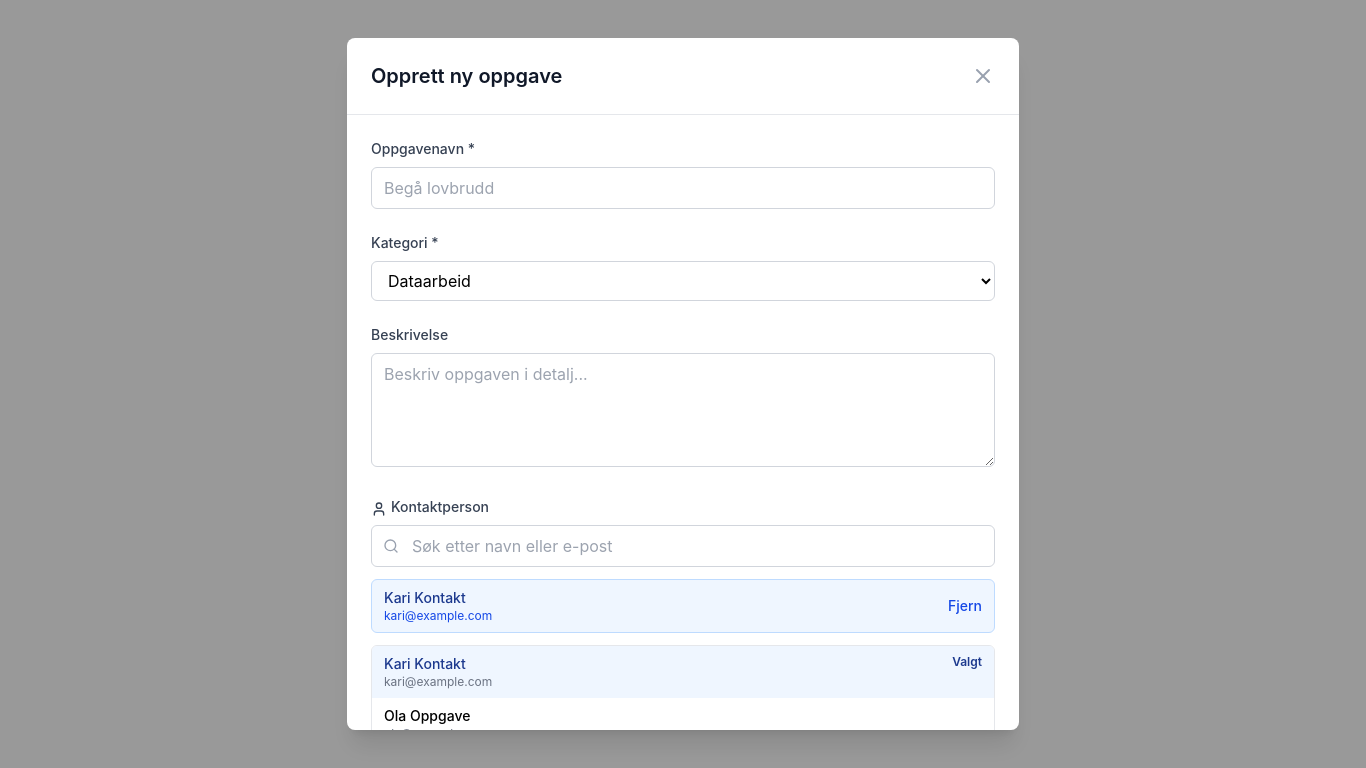
Test: TaskCreationModal › shows validation errors and does not submit invalid input
The image size is (1366, 768).
Clear the field labelled "Oppgavenavn *" at (683, 188), box [371, 167, 995, 209]
(page scrolled)
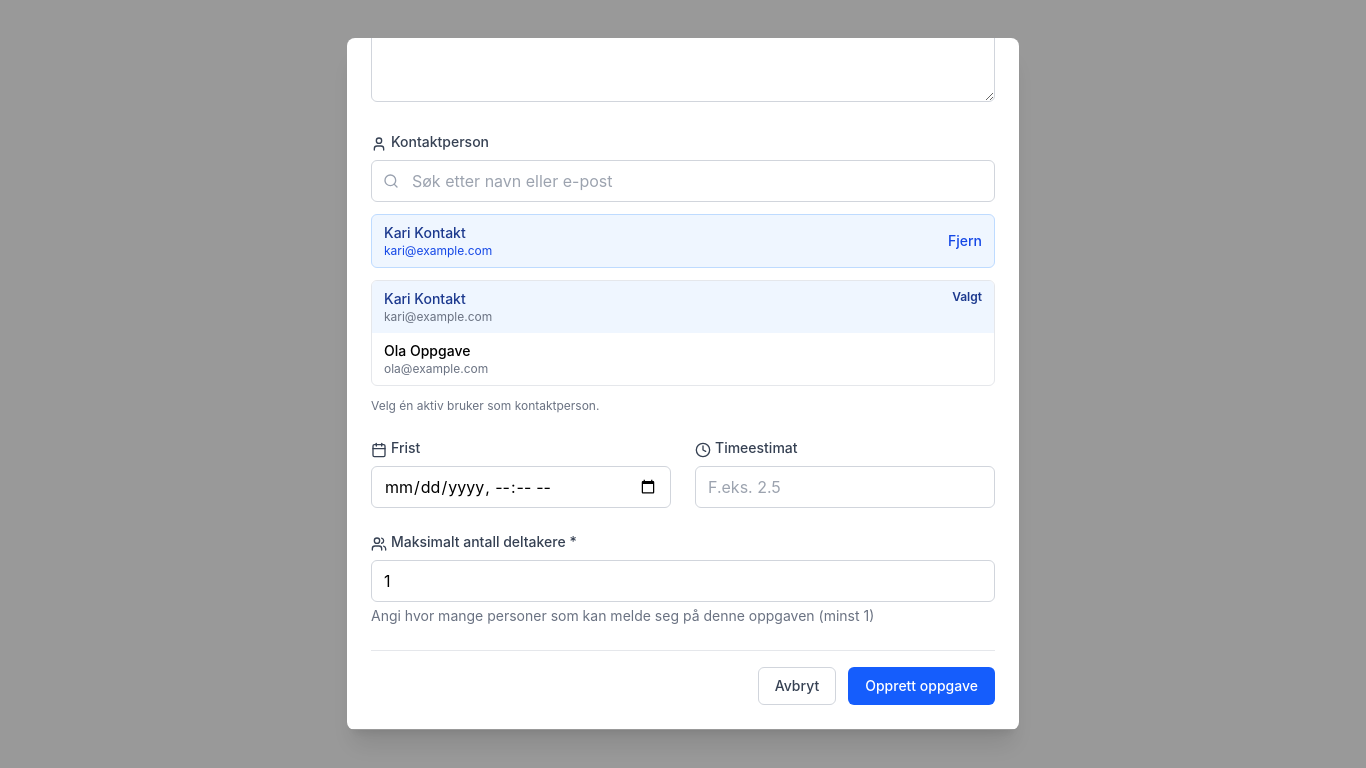
Type "0" into the number field labelled "Timeestimat" at (845, 487), box [695, 466, 995, 508]
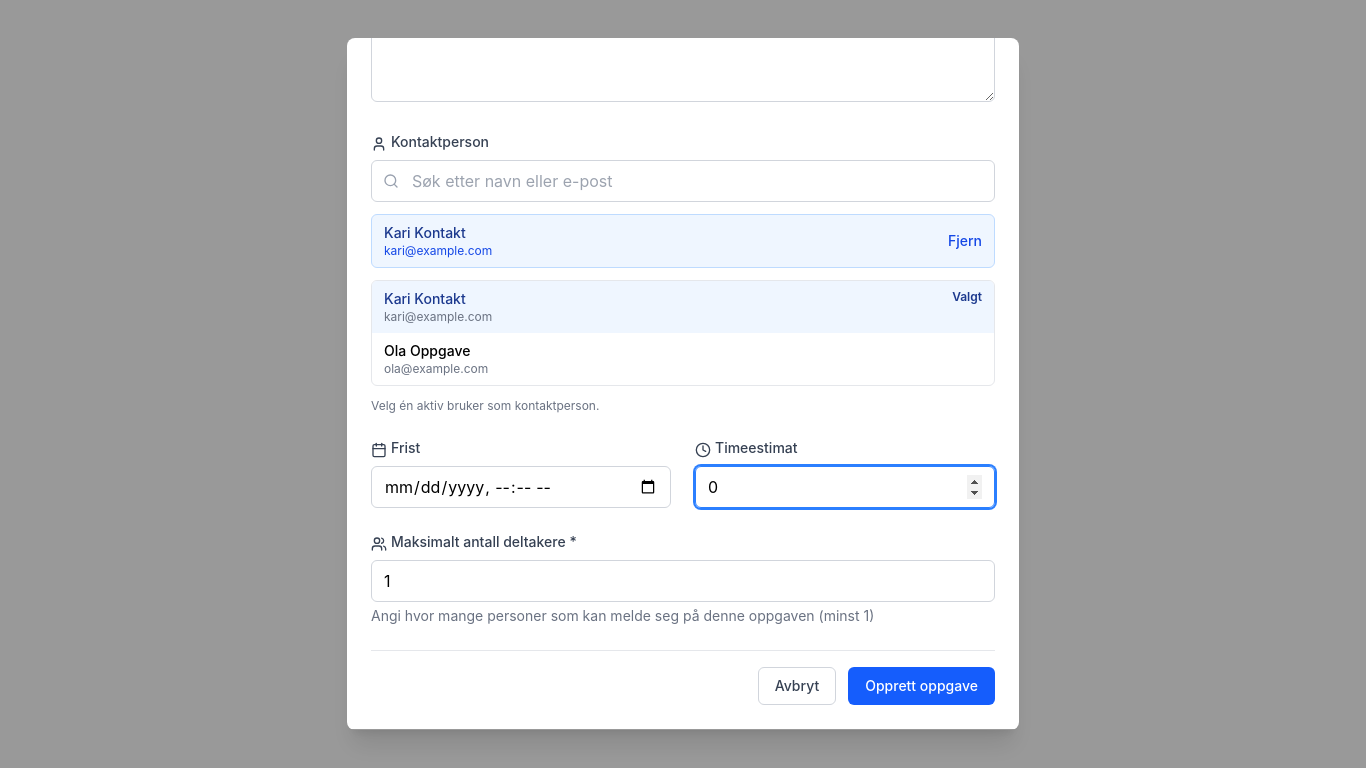
Replace the text in the number field labelled "Maksimalt antall deltakere *" with "0" at (683, 581), box [371, 560, 995, 602]
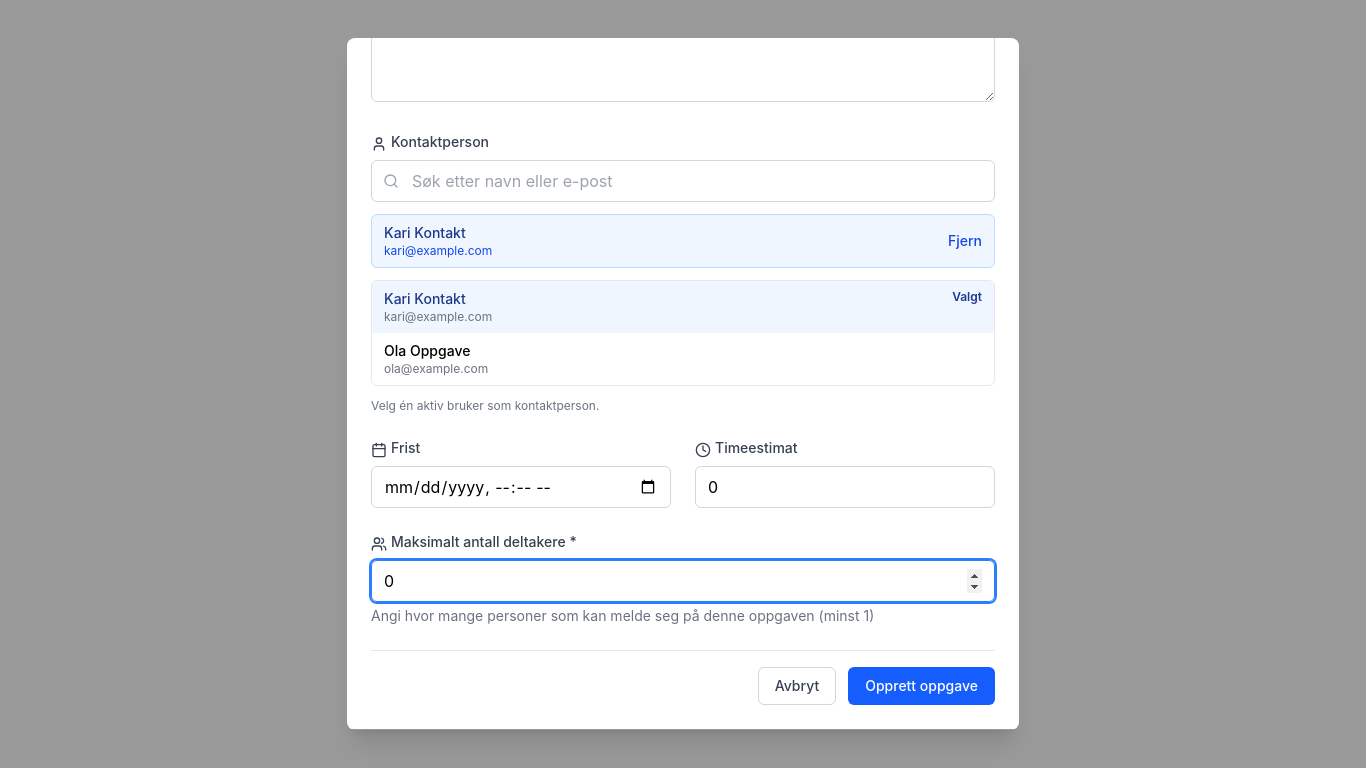
Click the button "Opprett oppgave" at (922, 686), box [848, 667, 995, 705]
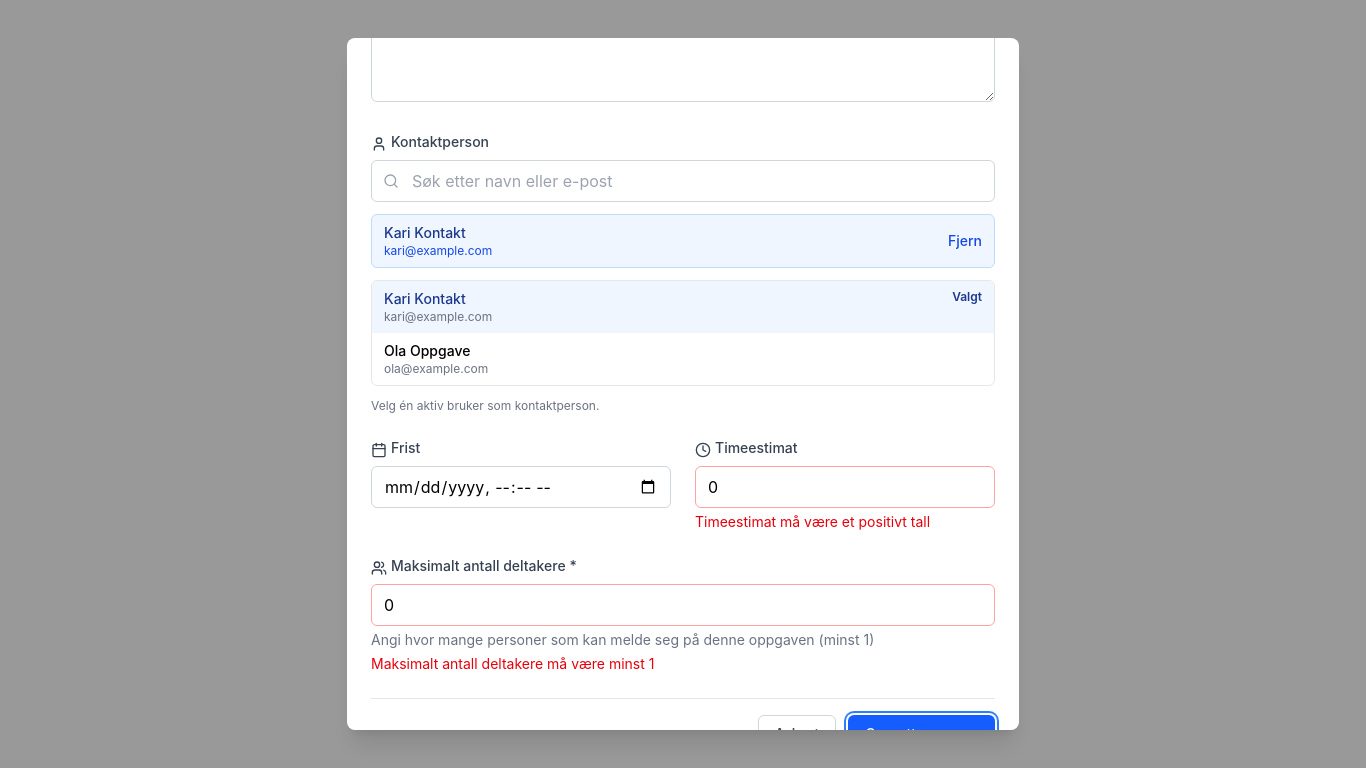
Check: the text "Timeestimat må være et positivt tall" is shown, box [695, 513, 930, 530]
Check: the text "Maksimalt antall deltakere må være minst 1" is shown, box [371, 655, 654, 672]
